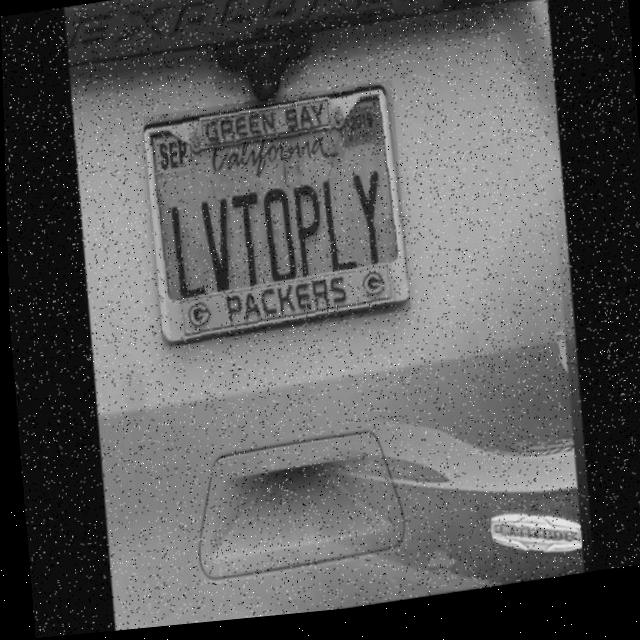LicensePlate: (142, 87, 409, 351)
